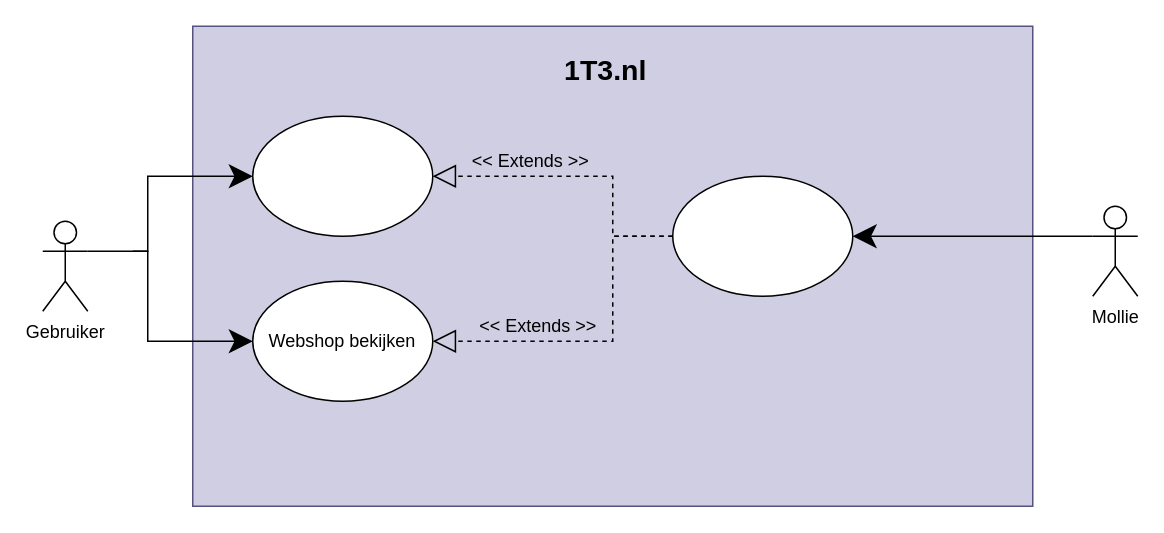
Some shapes in this 1164 by 533 pixel diagram are drawn without their labels. The centre of each missing label's shape, as x and y in pixels:
Product bestellen: the point at 762,235
Quiz invullen: the point at 342,175
